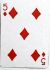five: (1, 1, 49, 69)
